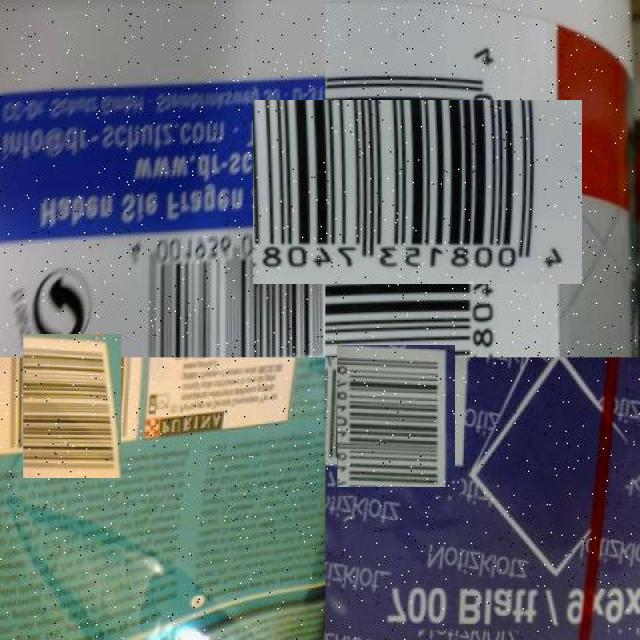Barcode: (289, 63, 546, 321), (119, 228, 325, 357), (331, 351, 462, 481), (12, 345, 133, 467)
